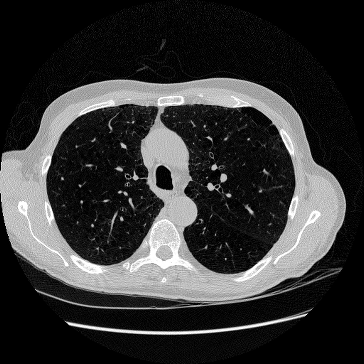nodule: (60, 176, 64, 180)
